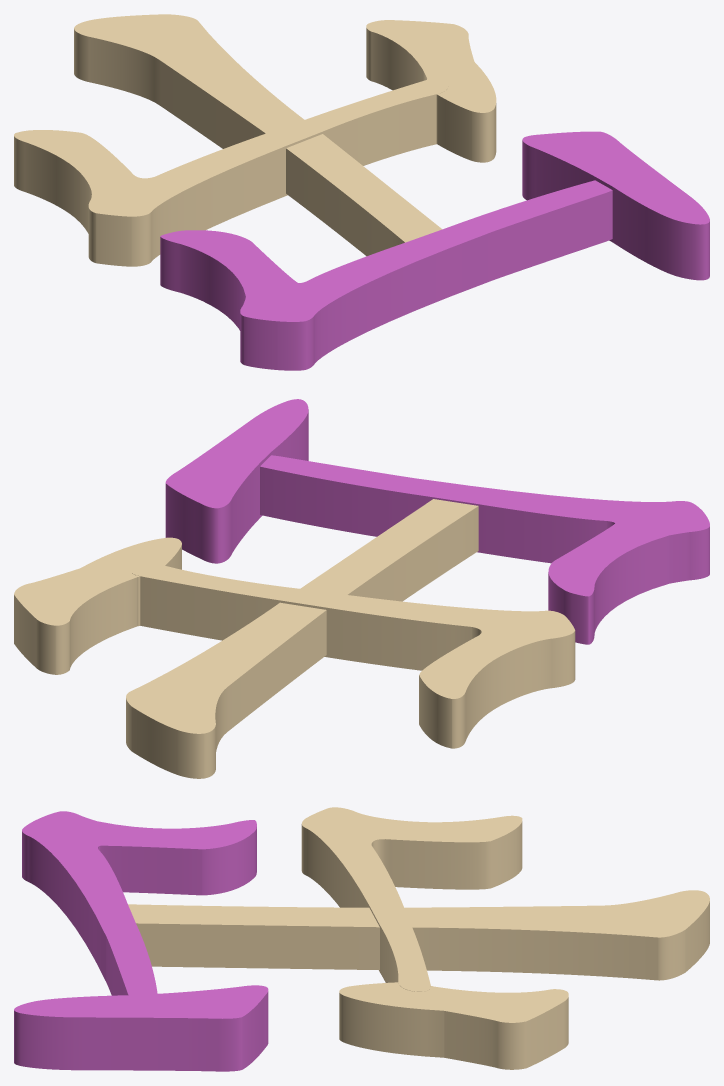
Rendered from hanzi54.fbx.
3 views of the same model, one above another, from view 1: azimuth 30°, elevation 25°; view 2: azimuth 150°, elevation 25°; view 3: azimuth 270°, elevation 25° (orthographic). The views are drawn at different scales.
Visible parts, largest first — view 1: Curve.003, Curve, Curve.002, Curve.004, Curve.001; view 2: Curve.003, Curve, Curve.002, Curve.004, Curve.001; view 3: Curve.002, Curve.003, Curve, Curve.004, Curve.001.
Part boxes in pixels (box(x1,y1,x2,y2)): Curve.003: box(160, 180, 612, 370); Curve: box(14, 78, 448, 266); Curve.002: box(74, 14, 442, 256); Curve.004: box(522, 131, 709, 280); Curve.001: box(366, 20, 496, 162); Curve.003: box(260, 455, 709, 644); Curve: box(131, 564, 575, 748); Curve.002: box(126, 499, 478, 778); Curve.004: box(165, 399, 308, 563); Curve.001: box(14, 537, 181, 674); Curve.002: box(128, 890, 709, 980); Curve.003: box(22, 811, 256, 995); Curve: box(301, 807, 522, 991); Curve.004: box(14, 985, 268, 1071); Curve.001: box(339, 982, 568, 1069).
Bounding box in the file's own units: 17.76 × 24.25 × 2.03.
